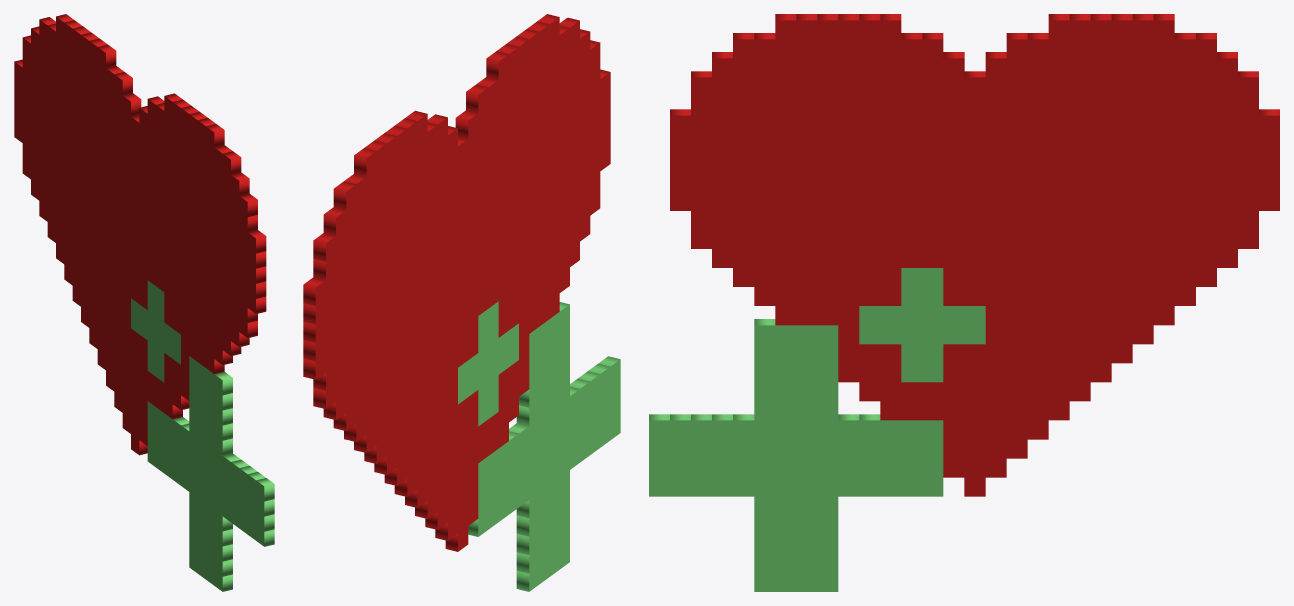
File: Health.fbx
The picture shows the model from 3 angles, left to right: view 1: azimuth 30°, elevation 25°; view 2: azimuth 150°, elevation 25°; view 3: azimuth 270°, elevation 25°; orthographic projection. The views are drawn at different scales.
Parts seen in each view (by area): view 1: Curve.008; view 2: Curve.008; view 3: Curve.008.
Boxes of the visible parts, x1,y1,x2,y2 form: Curve.008: [14, 14, 274, 591]; Curve.008: [303, 14, 620, 591]; Curve.008: [649, 14, 1279, 591].
Bounding box in the file's own units: 2 × 84.65 × 84.67.
